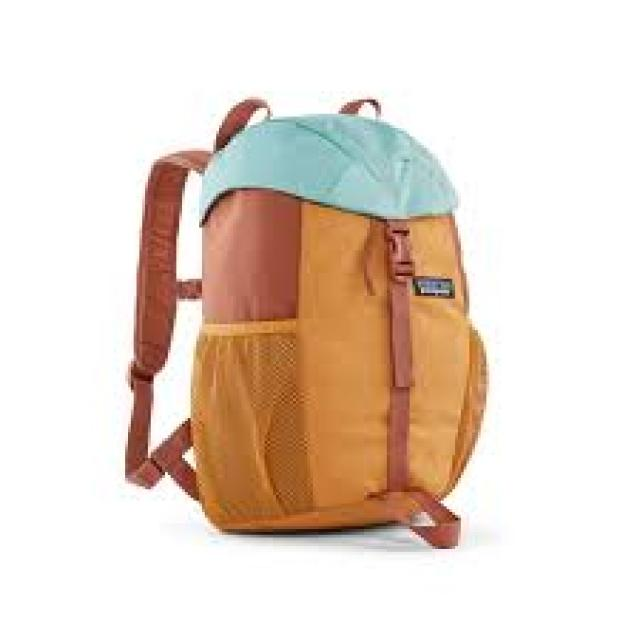backpack: (122, 94, 490, 546)
